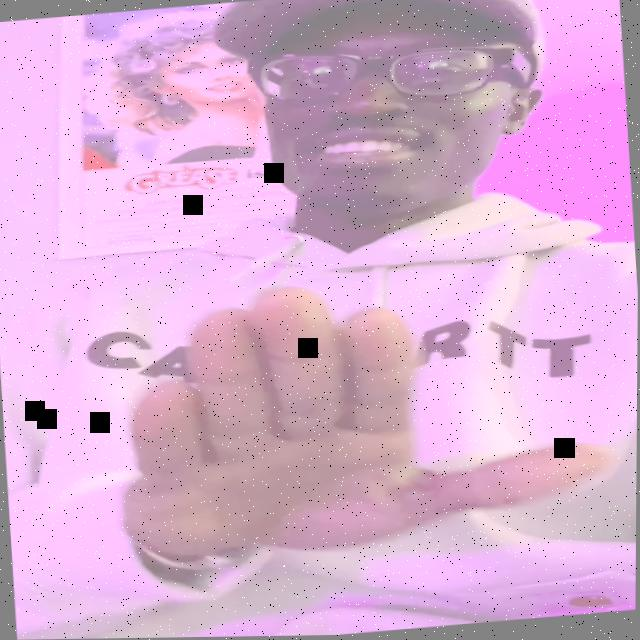Paper: (112, 261, 609, 568)
